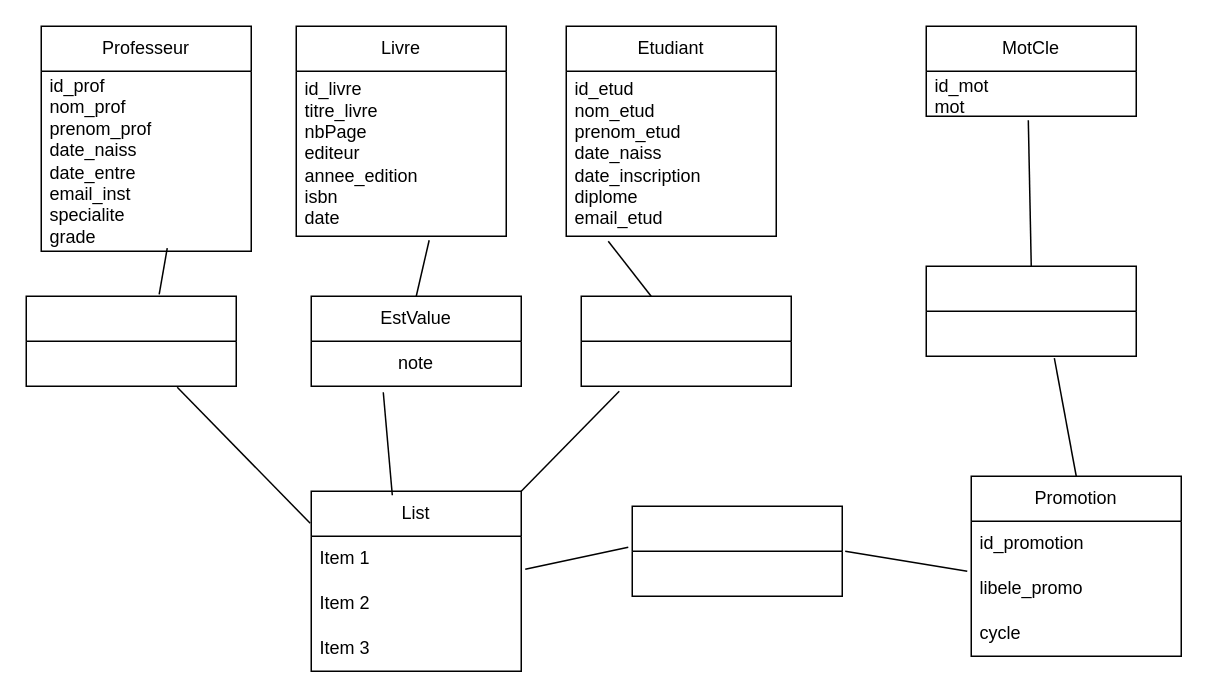
This 1208x698 diagram has some shape labels left out. Here are the shapes that lost their labels. From the top down, the centre of each, then its label:
the point at 1030,310: Associe
the point at 130,340: Enseigne
the point at 685,340: Concerne
the point at 736,550: EstEnseigne
